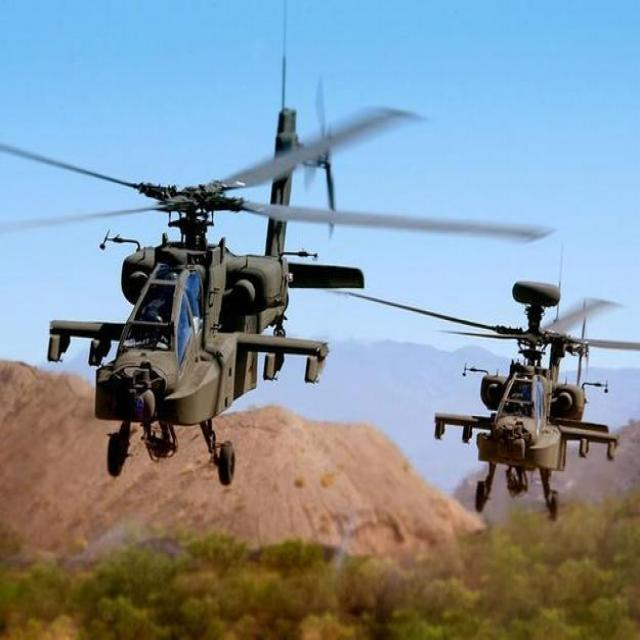MIL_HELO: (35, 86, 354, 488)
